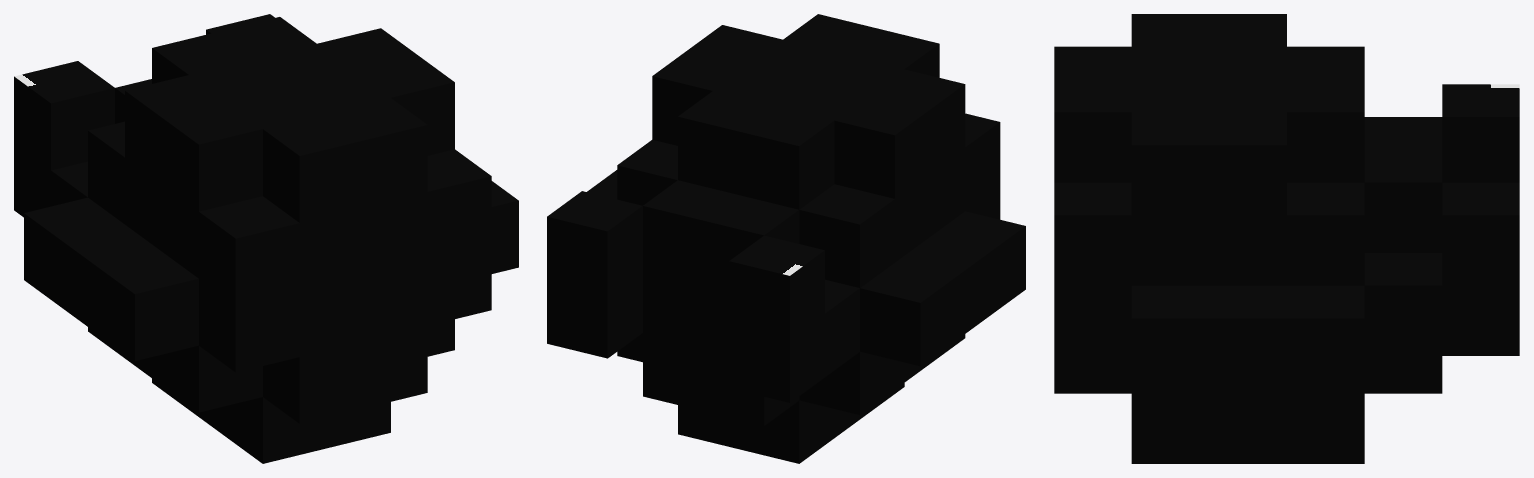
Rendered from enemy_fixed.gltf.
3 renders of one model, left to right at view 1: azimuth 30°, elevation 25°; view 2: azimuth 150°, elevation 25°; view 3: azimuth 270°, elevation 25°, orthographic. The views are drawn at different scales.
Visible parts, largest first — view 1: Layer.1; view 2: Layer.1; view 3: Layer.1.
Boxes of the visible parts, box(x1,y1,x2,y2) form: Layer.1: box(14, 14, 518, 463); Layer.1: box(547, 14, 1025, 463); Layer.1: box(1054, 14, 1519, 463).
Size of the model in its own units: 6 by 5 by 6.
Materials: 1 (1 with a texture image).
